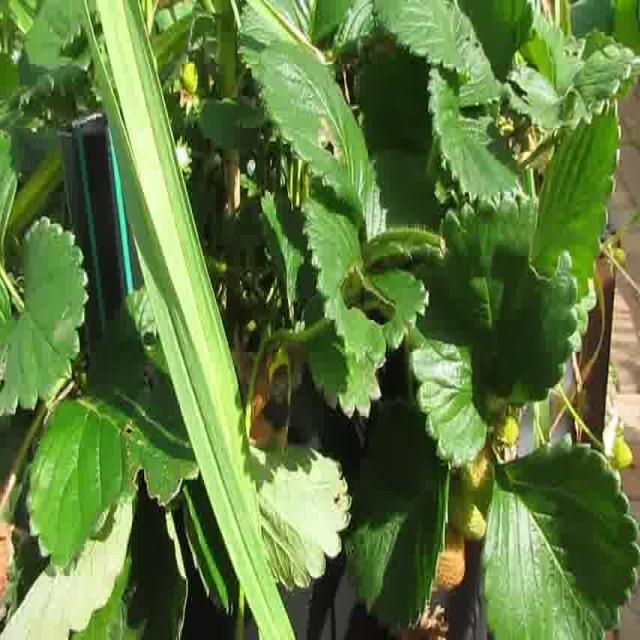Fruta sana: (446, 478, 489, 541), (430, 516, 466, 589), (462, 441, 494, 522), (609, 436, 634, 470), (180, 58, 198, 92), (612, 246, 628, 268)
